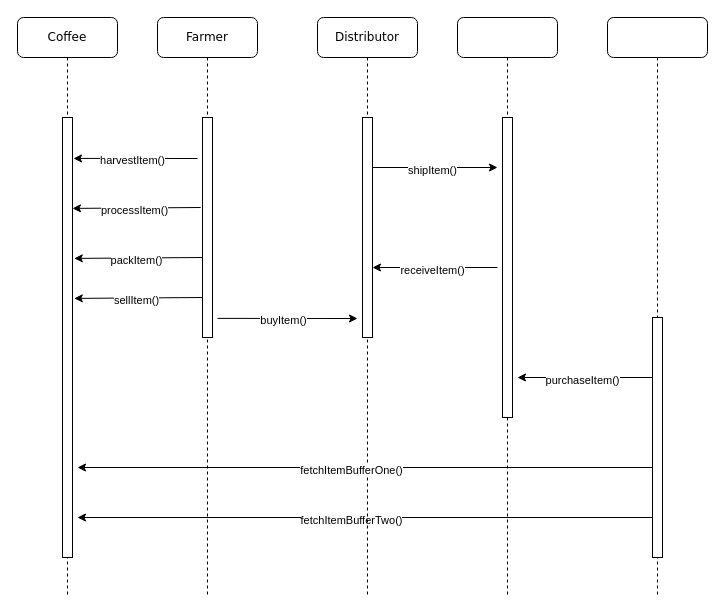
This 725x615 diagram has some shape labels left out. Here are the shapes that lost their labels. From the top down, the box of each, then its label:
(456, 16, 558, 598): Retailer
(606, 16, 708, 598): Consumer
